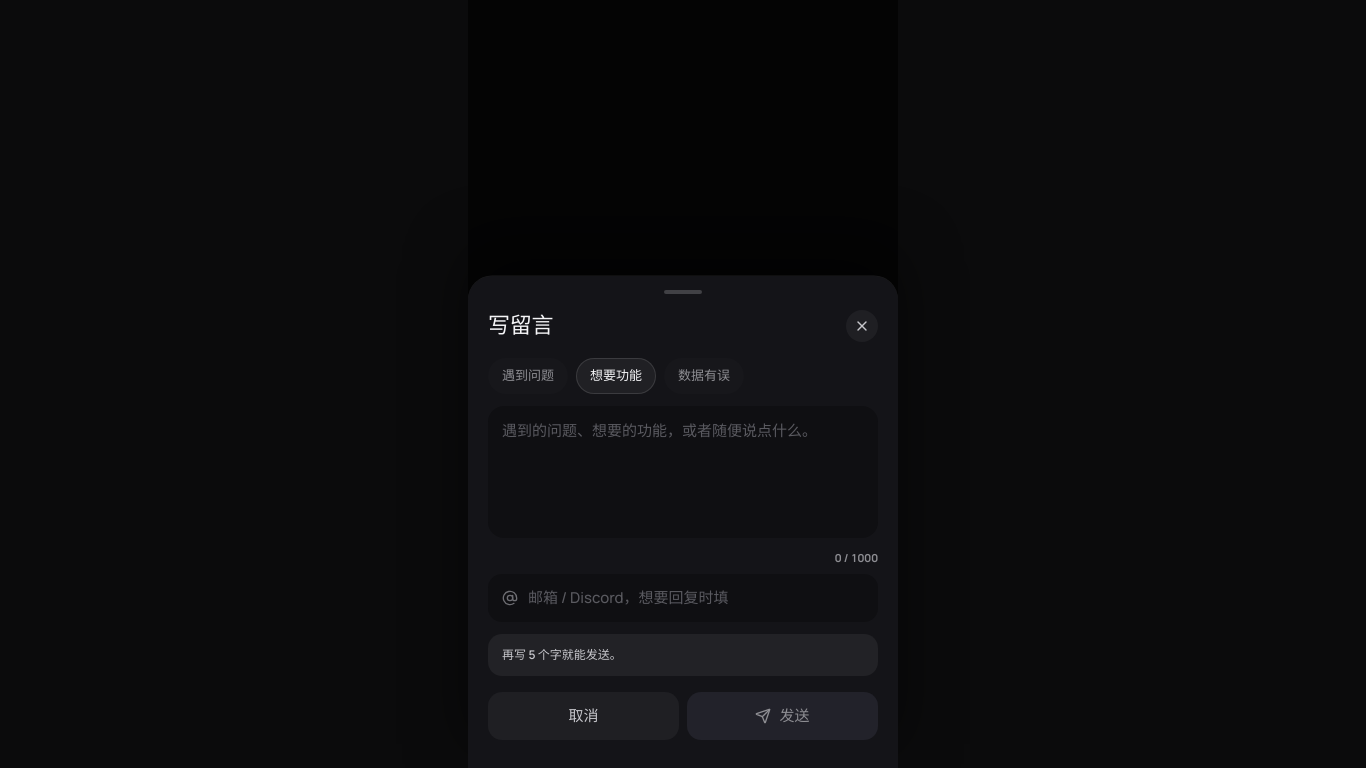
it: FeedbackSheet › keeps 发送 disabled until the message clears the five-character minimum
This screenshot has width=1366, height=768.
Expected: the button "发送" is disabled, 687,692 -> 878,740
Type "  太短  " into the text box named "留言内容".
click(683, 472); type("  太短  ")  # box 488,406 -> 878,538
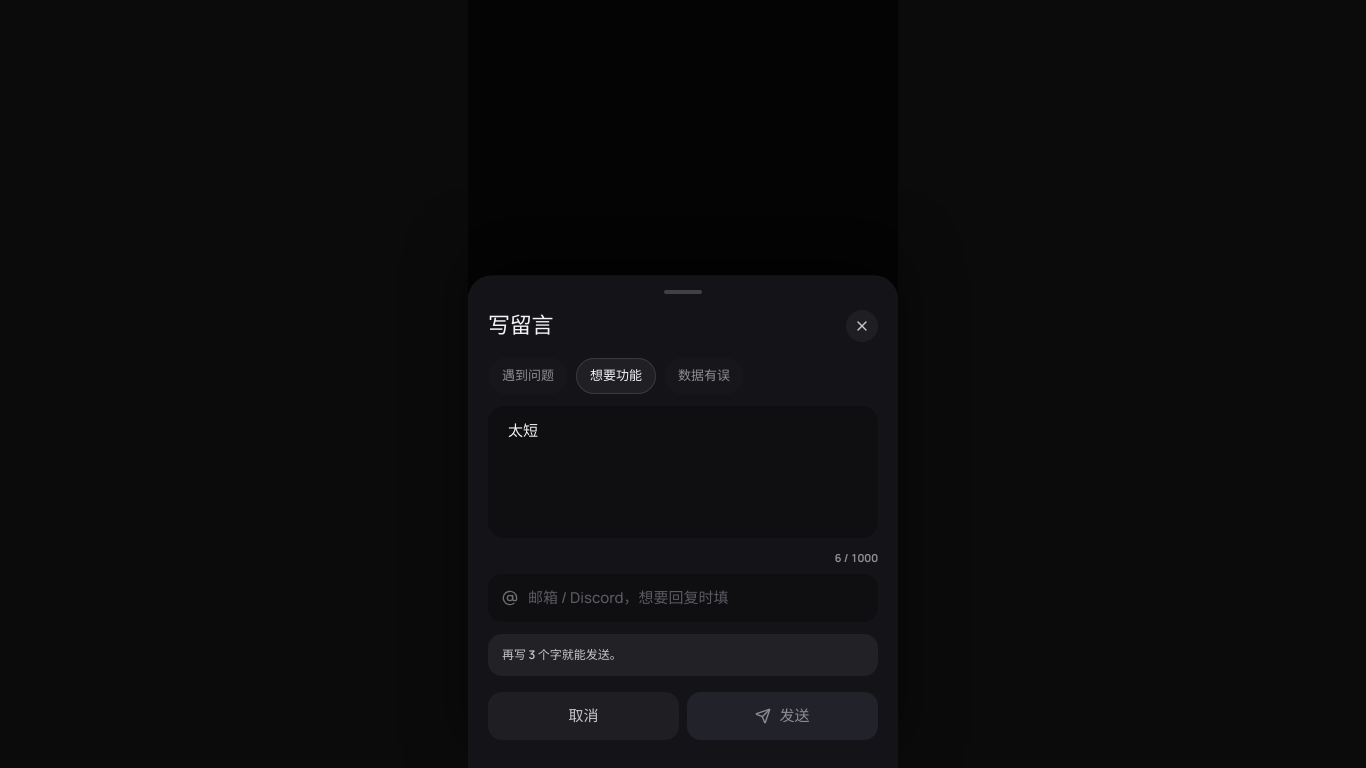
Expected: the button "发送" is disabled, 687,692 -> 878,740
Now the text "再写 3 个字就能发送。" is shown, box 488,634 -> 878,676
Replace the text in the text box named "留言内容" with "  刚好五个字  " at (683, 472), box 488,406 -> 878,538
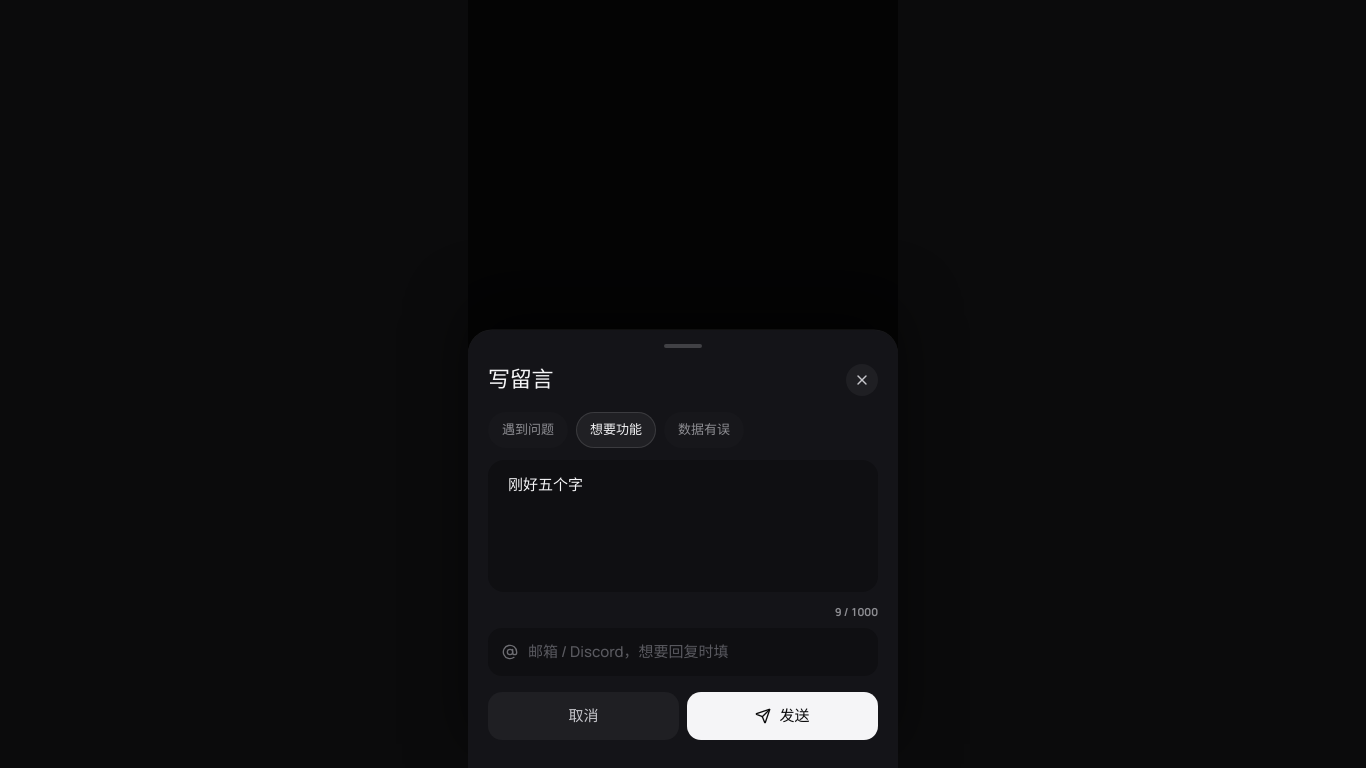
Now the text "再写 5 个字就能发送。" is gone
Now the button "发送" is enabled, box 687,692 -> 878,740
